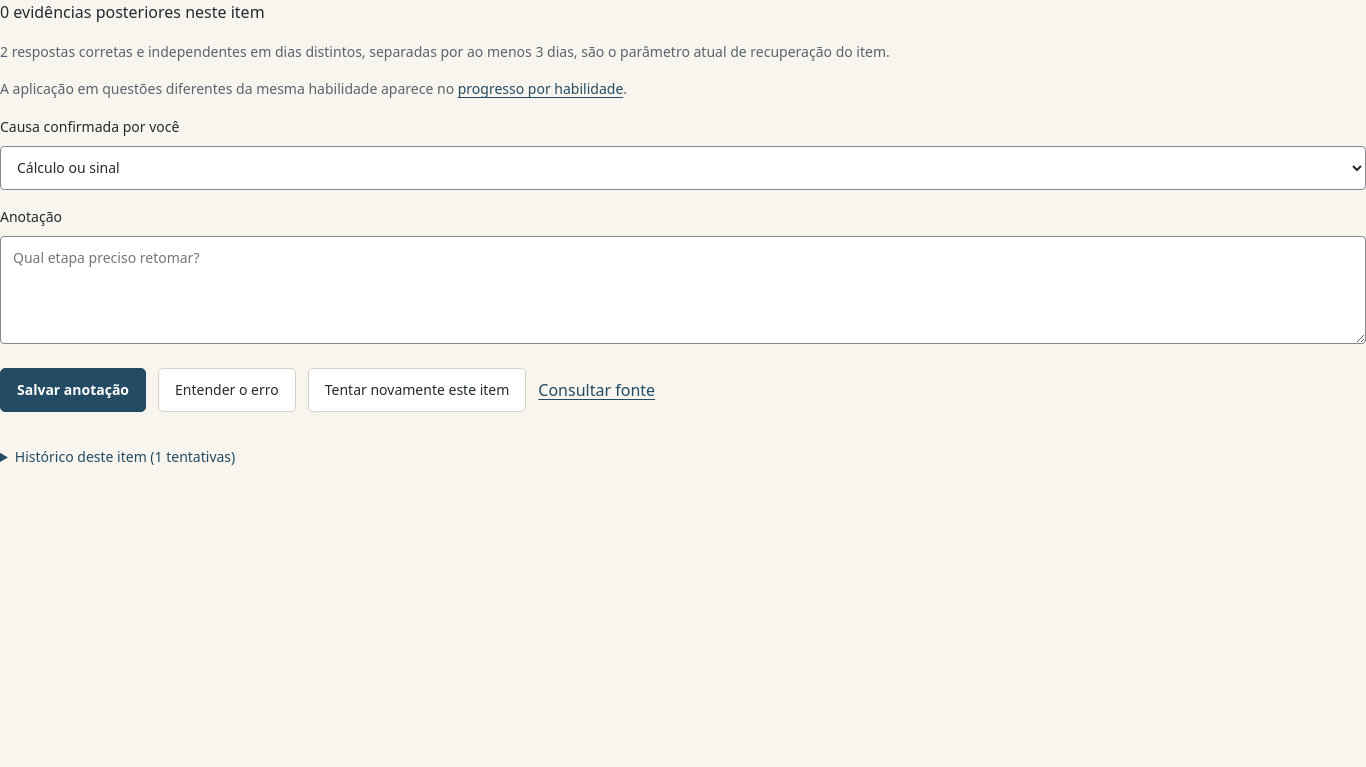
Test: catalogue updates during refresh do not replace the snapshot actually recorded
The image size is (1366, 767).
Click the button "Entender o erro".
click(227, 390)  # box [158,368,296,412]
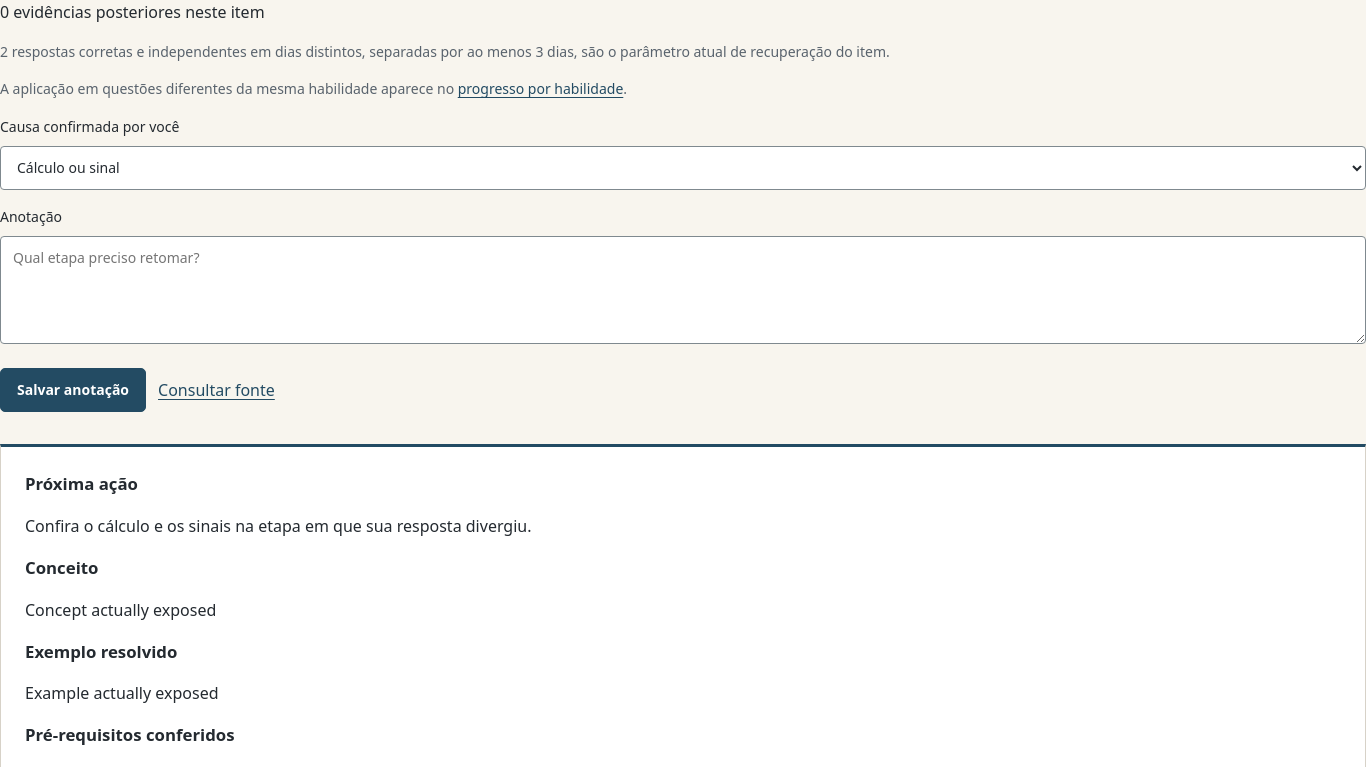
Result: the text "Concept actually exposed" is shown at [25,599,216,621]
